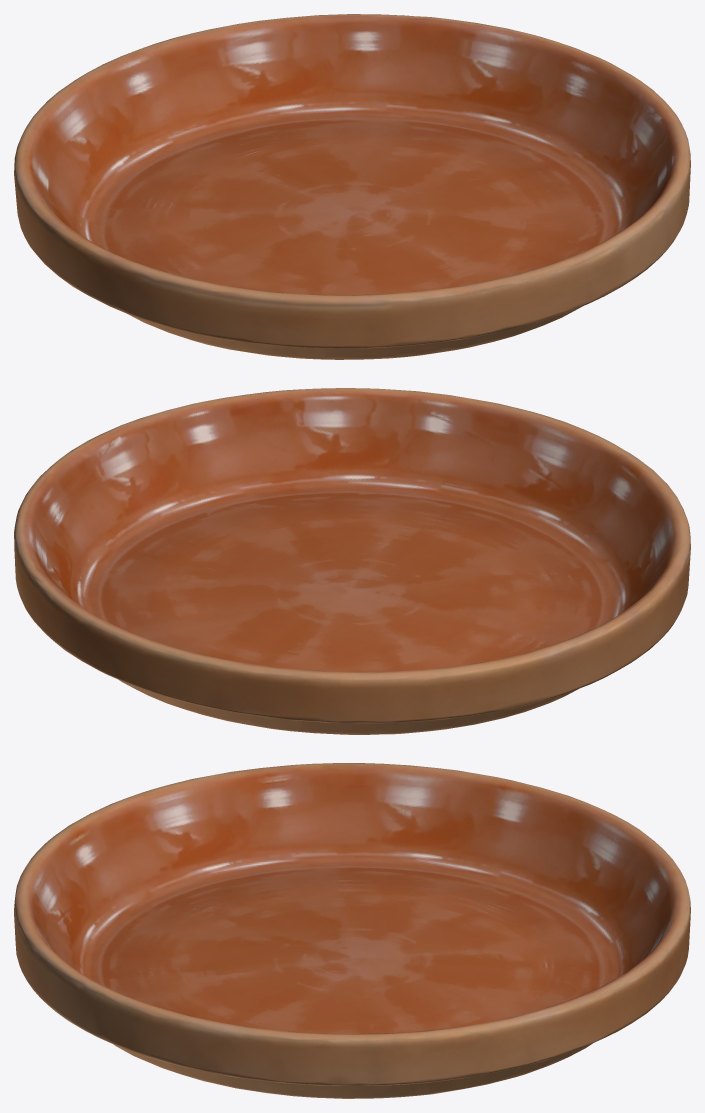
File: Cole_Hardware_Plant_Saucer_Glazed_9.glb
3 renders of one model, top to bottom at view 1: azimuth 30°, elevation 25°; view 2: azimuth 150°, elevation 25°; view 3: azimuth 270°, elevation 25°, orthographic.
Visible parts, largest first — view 1: Cole_Hardware_Plant_Saucer_Glazed_9; view 2: Cole_Hardware_Plant_Saucer_Glazed_9; view 3: Cole_Hardware_Plant_Saucer_Glazed_9.
Part boxes in pixels (x1,y1,x2,y2): Cole_Hardware_Plant_Saucer_Glazed_9: [14, 14, 690, 359]; Cole_Hardware_Plant_Saucer_Glazed_9: [14, 388, 690, 734]; Cole_Hardware_Plant_Saucer_Glazed_9: [14, 763, 690, 1098].
Size of the model in its own units: 0.2286 by 0.037 by 0.2287.
1 material, 1 textured.
